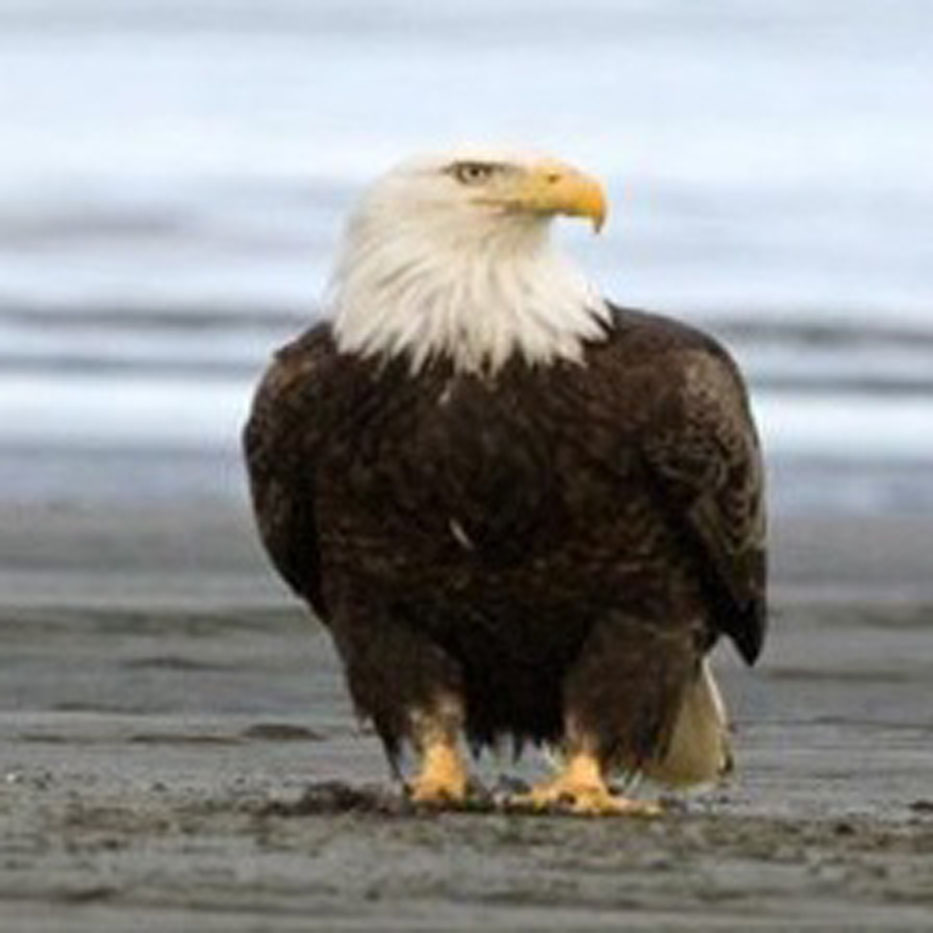Pengoyak Daging: (536, 158, 622, 252)
